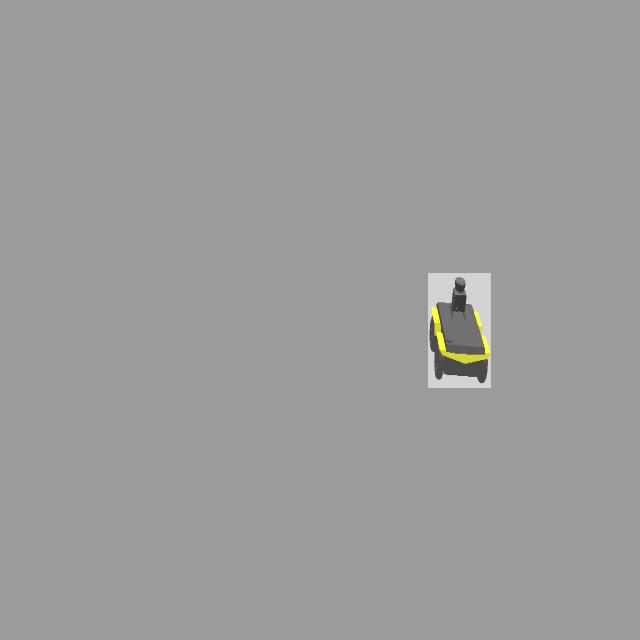jackal: (428, 273, 491, 388)
